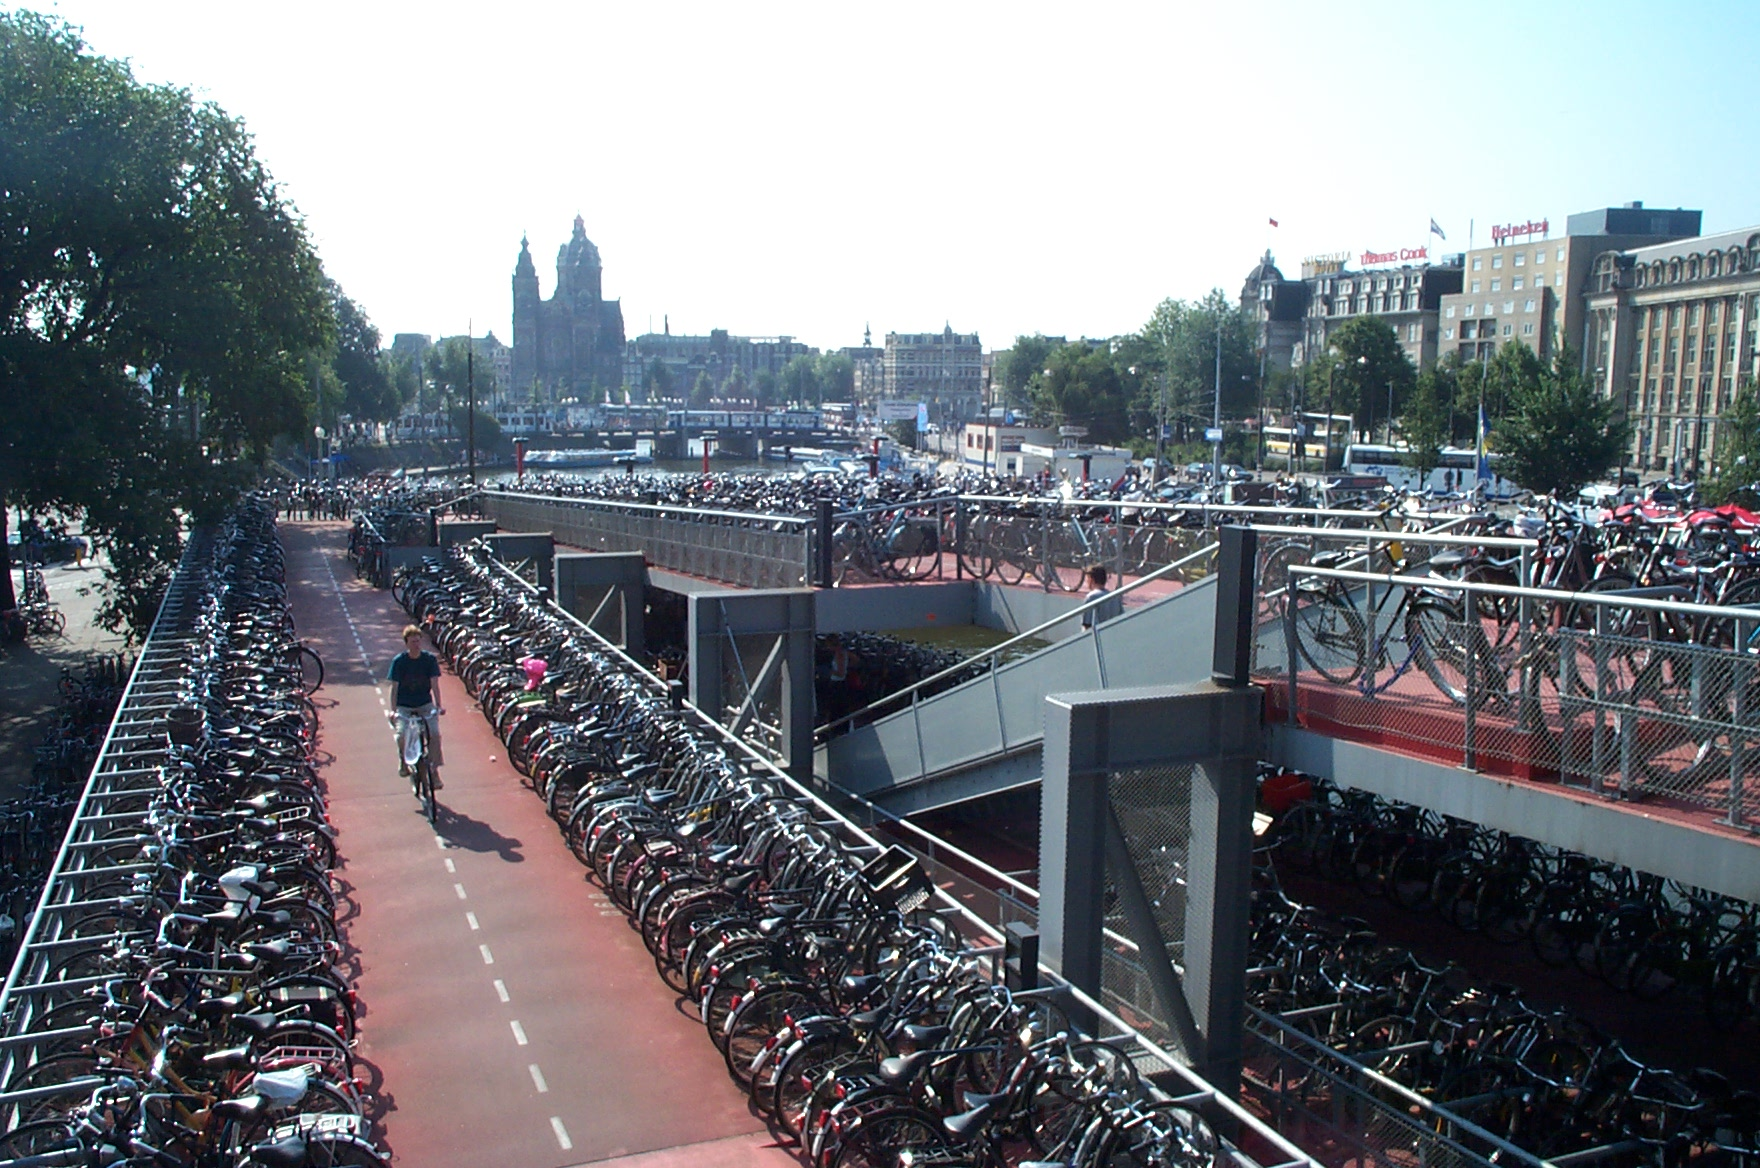commuter: (377, 624, 462, 839)
